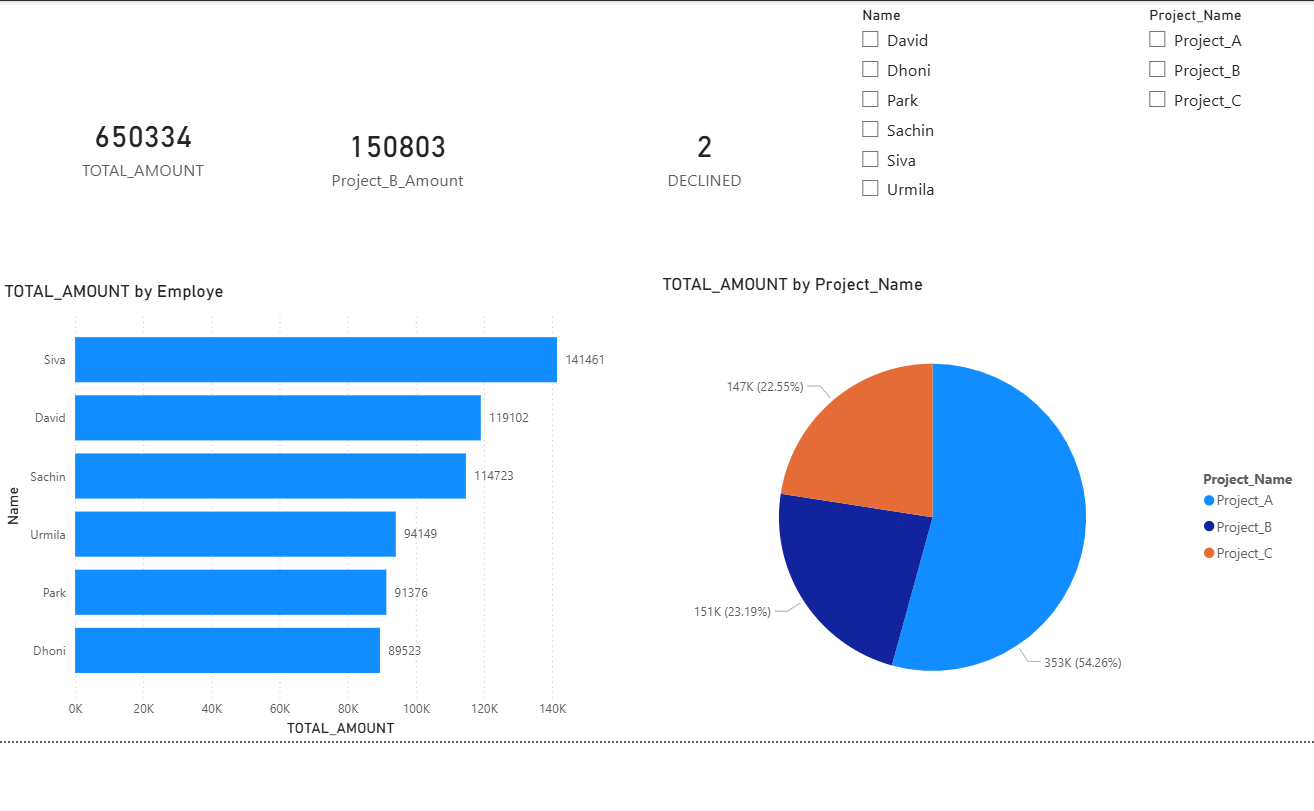

What the dashboard file says about the page in this screenshot:
{"tool":"powerbi","page":{"name":"Page 1","canvas":[1280,720],"ordinal":0},"visuals":[{"type":"card","fields":{"Values":["fact_reimbursement.TOTAL_AMOUNT"]},"box":[0,0,280.1,280.1],"z":0},{"type":"card","fields":{"Values":["fact_reimbursement.PRO_B_total"]},"box":[238.2,0,298.8,299.8],"z":1000},{"type":"card","fields":{"Values":["fact_reimbursement.DECLINED"]},"box":[537,0,298.8,299.8],"z":2000},{"type":"slicer","fields":{"Values":["Dim_employee.Name"]},"box":[826.7,0,279.1,281.1],"z":3000},{"type":"barChart","title":"TOTAL_AMOUNT by Employe","fields":{"Category":["Dim_employee.Name"],"Y":["fact_reimbursement.TOTAL_AMOUNT"]},"box":[0,272.6,609.7,447.2],"z":4000},{"type":"pieChart","fields":{"Category":["fact_reimbursement.Project_Name"],"Y":["fact_reimbursement.TOTAL_AMOUNT"]},"box":[640,265.5,640,454.3],"z":5000},{"type":"slicer","fields":{"Values":["fact_reimbursement.Project_Name"]},"box":[1106,0,174,265],"z":5001}]}

Visuals, with their boxes on the page's 1280x720 design canvas (x1, y1, x2, y2). These are canvas units, not pixel positions in the 1314x811 screenshot, which may show the page scaled, cropped or inside an application window:
card - fact_reimbursement.TOTAL_AMOUNT: {"x1": 0, "y1": 0, "x2": 280, "y2": 280}
card - fact_reimbursement.PRO_B_total: {"x1": 238, "y1": 0, "x2": 537, "y2": 300}
card - fact_reimbursement.DECLINED: {"x1": 537, "y1": 0, "x2": 836, "y2": 300}
slicer - Dim_employee.Name: {"x1": 827, "y1": 0, "x2": 1106, "y2": 281}
"TOTAL_AMOUNT by Employe" barChart: {"x1": 0, "y1": 273, "x2": 610, "y2": 720}
pieChart - fact_reimbursement.Project_Name x fact_reimbursement.TOTAL_AMOUNT: {"x1": 640, "y1": 266, "x2": 1280, "y2": 720}
slicer - fact_reimbursement.Project_Name: {"x1": 1106, "y1": 0, "x2": 1280, "y2": 265}
